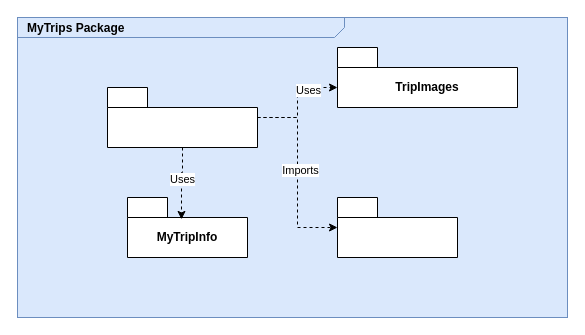
Some shapes in this 585 by 335 pixel diagram are drawn without their labels. The centre of each missing label's shape, as x and y in pixels:
FriendSharing: the point at 397,227
MyTrips: the point at 182,117
